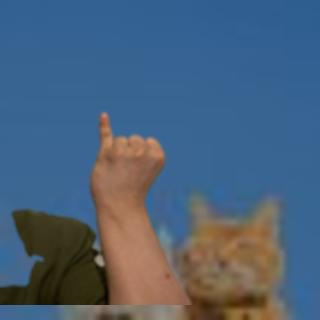FINE: (84, 107, 170, 214)
